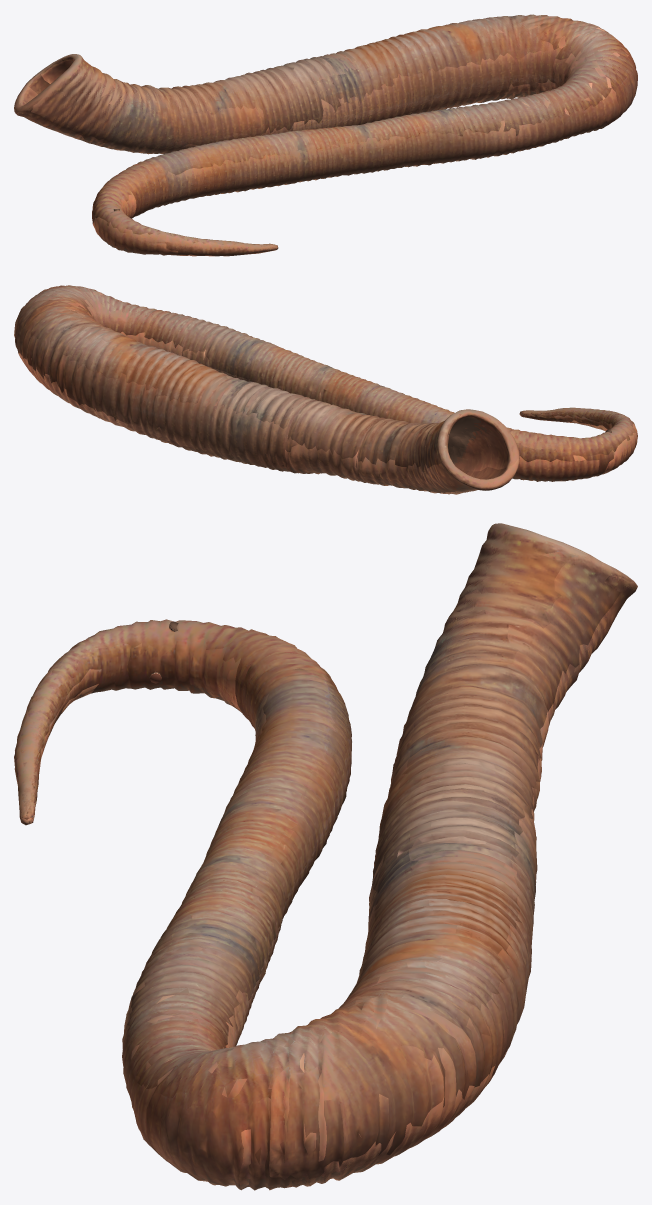
3 renders of one model, top to bottom at view 1: azimuth 30°, elevation 25°; view 2: azimuth 150°, elevation 25°; view 3: azimuth 270°, elevation 25°, orthographic. The views are drawn at different scales.
Visible parts, largest first — view 1: world; view 2: world; view 3: world.
Boxes of the visible parts, left/top/right/bottom form: world: left=14, top=14, right=637, bottom=256; world: left=14, top=285, right=637, bottom=494; world: left=14, top=523, right=637, bottom=1190.
Size of the model in its own units: 0.9 by 0.1838 by 0.4482.
Materials: 1 (1 with a texture image).
